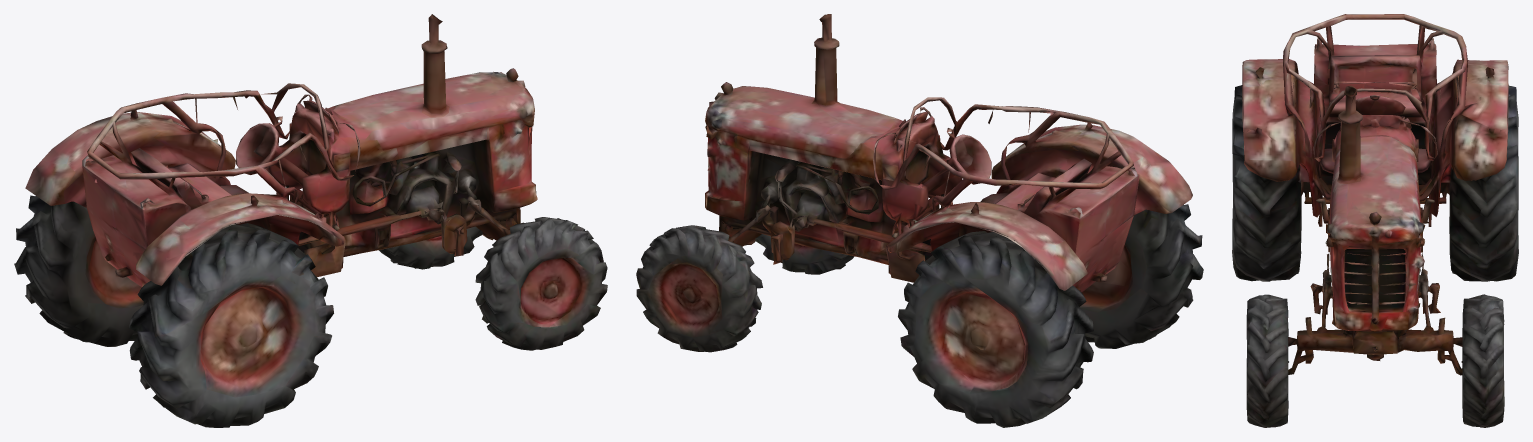
The model's file is tractor_wreck_lod1.7155c425de.glb.
3 renders of one model, left to right at view 1: azimuth 30°, elevation 25°; view 2: azimuth 150°, elevation 25°; view 3: azimuth 270°, elevation 25°, orthographic. The views are drawn at different scales.
Parts seen in each view (by area): view 1: tractor_wreck; view 2: tractor_wreck; view 3: tractor_wreck.
Boxes of the visible parts, x1,y1,x2,y2 form: tractor_wreck: (14, 14, 607, 427); tractor_wreck: (636, 14, 1203, 427); tractor_wreck: (1232, 14, 1518, 427).
Size of the model in its own units: 4.2 by 2.72 by 2.33.
1 material, 1 textured.
